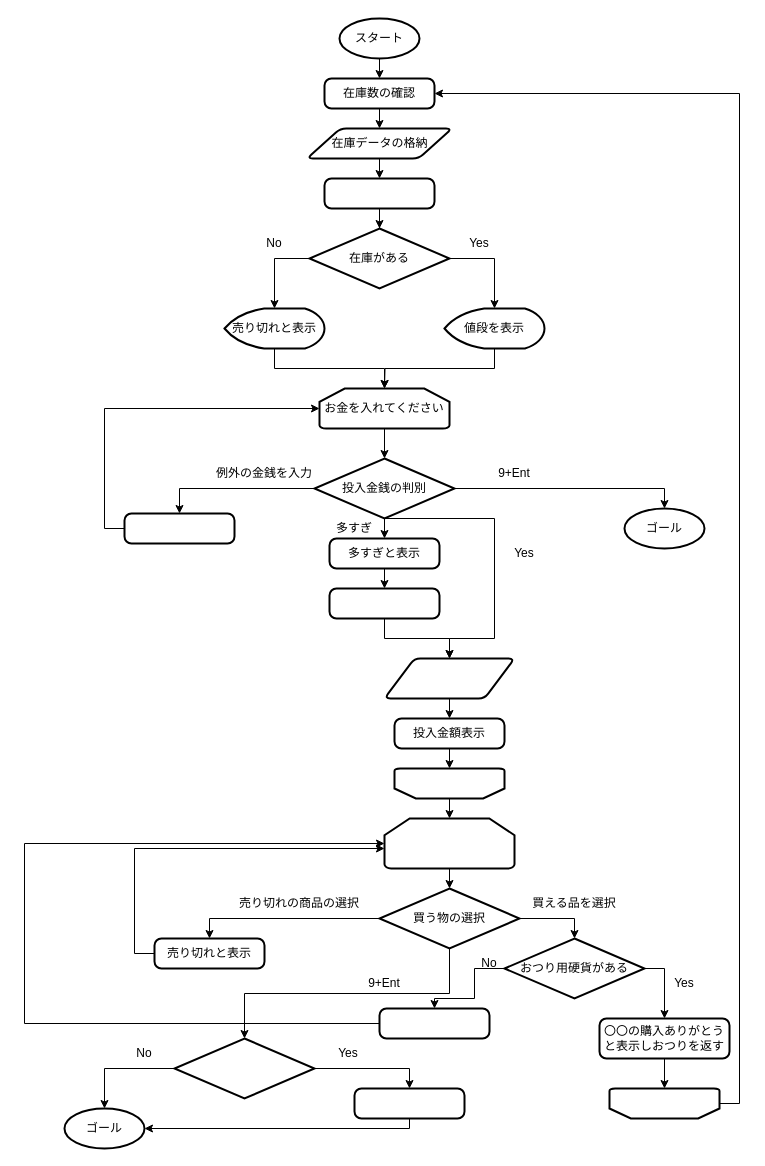
Some shapes in this 765 by 1166 pixel diagram are drawn without their labels. Here are the shapes that lost their labels. From the top down, the centre of each, then its label:
(x=379, y=193): 初期画面表示
(x=179, y=528): 対応可能金銭を入れてください表示
(x=384, y=603): 過剰分を返金
(x=449, y=678): 入力金額を格納
(x=449, y=843): 買える商品の値段を青色表示する
(x=434, y=1023): 釣銭切れと表示
(x=244, y=1068): おつりがある
(x=409, y=1103): 返金
